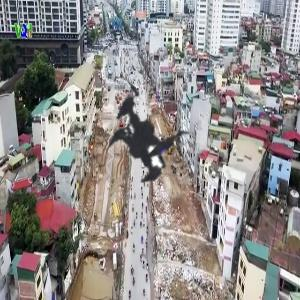drone: (5, 5, 294, 294)
